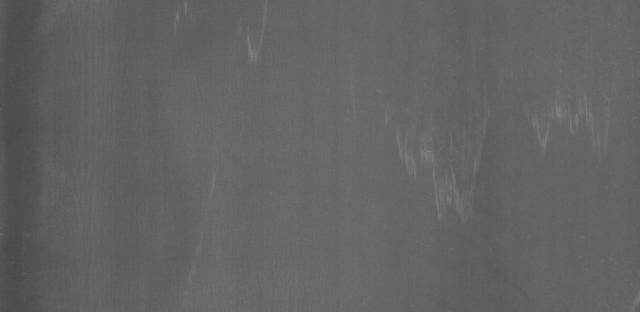silk_spot: (391, 87, 618, 242)
